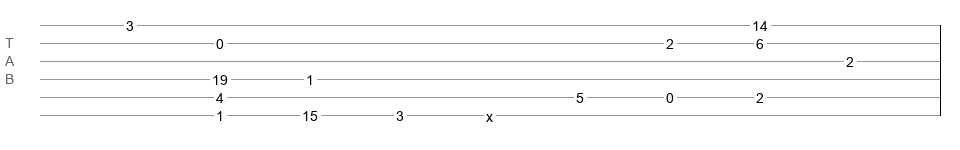0: (216, 36, 224, 46), (666, 90, 674, 100)
1: (216, 108, 224, 118), (306, 72, 314, 82)
14: (752, 18, 768, 28)
15: (302, 108, 318, 118)
19: (212, 72, 228, 82)
2: (666, 36, 674, 46), (756, 90, 764, 100), (846, 54, 854, 64)
3: (126, 18, 134, 28), (396, 108, 404, 118)
4: (216, 90, 224, 100)
5: (576, 90, 584, 100)
6: (756, 36, 764, 46)
x: (486, 109, 493, 117)
